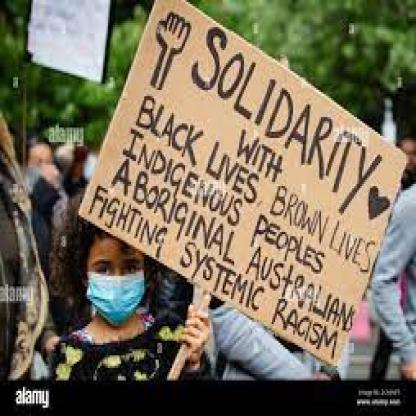BANNER: (77, 0, 408, 370)
